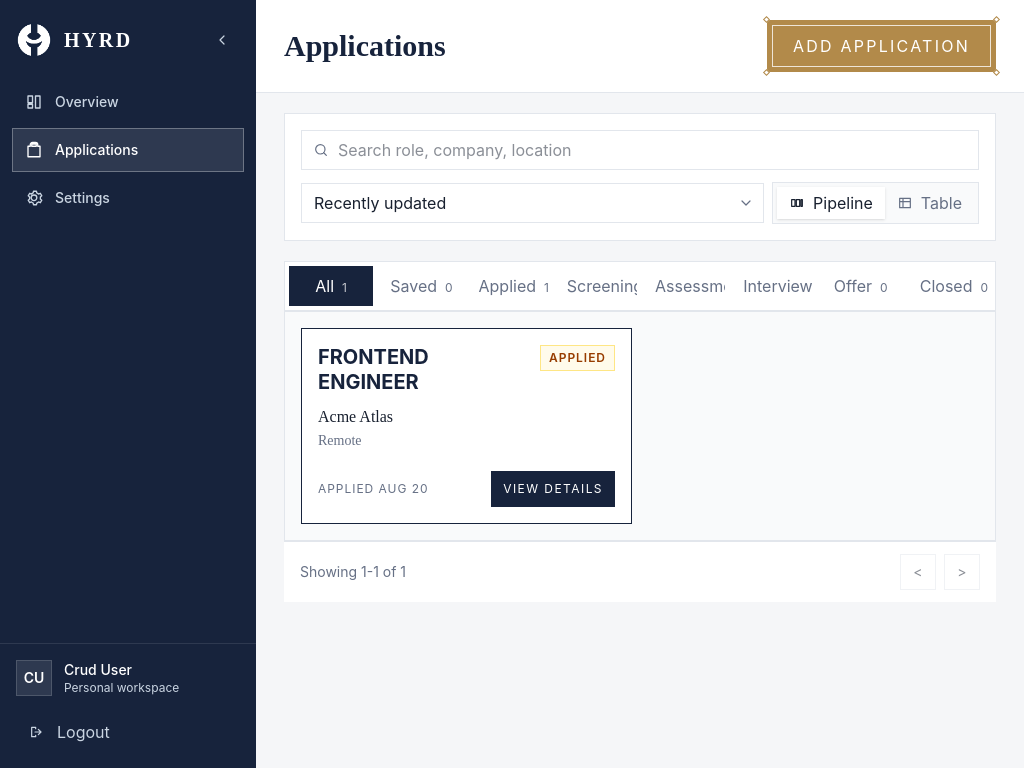
Test: application CRUD UI › opens application details from a card
Expected: the heading "Frontend Engineer" is shown, [318,345,429,394]
Click the button "View Details": [553, 489] box [491,471,615,507]
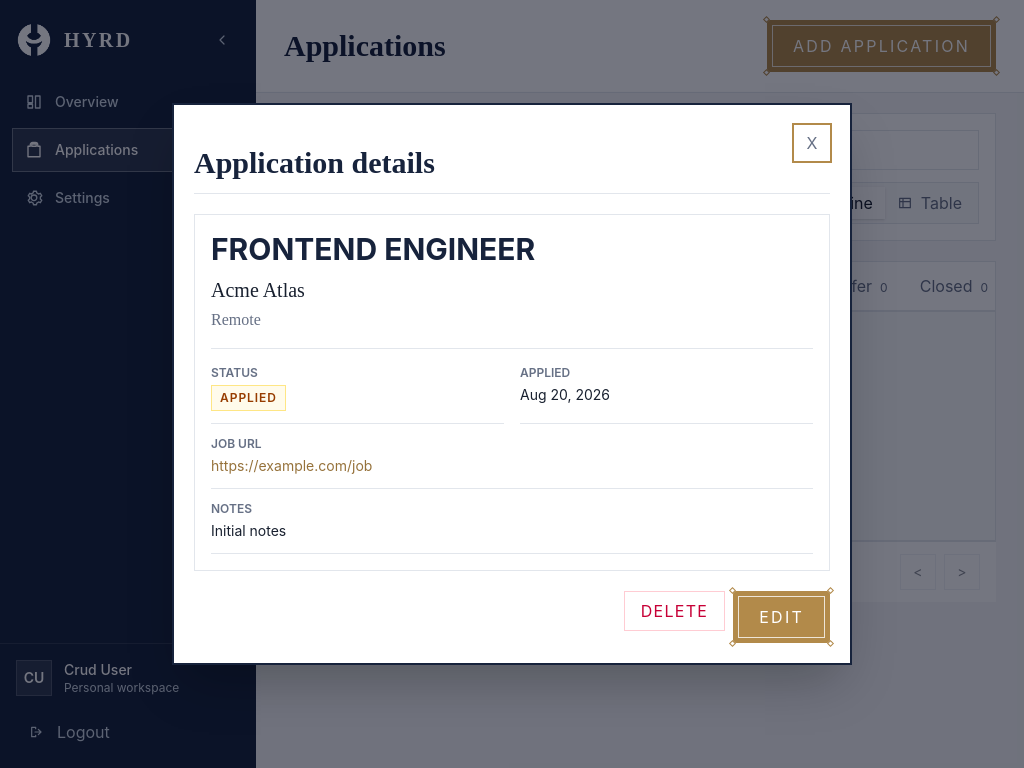
Expected: the dialog "Application details" is shown
Expected: the link "https://example.com/job" is shown, [211,457,372,474]
